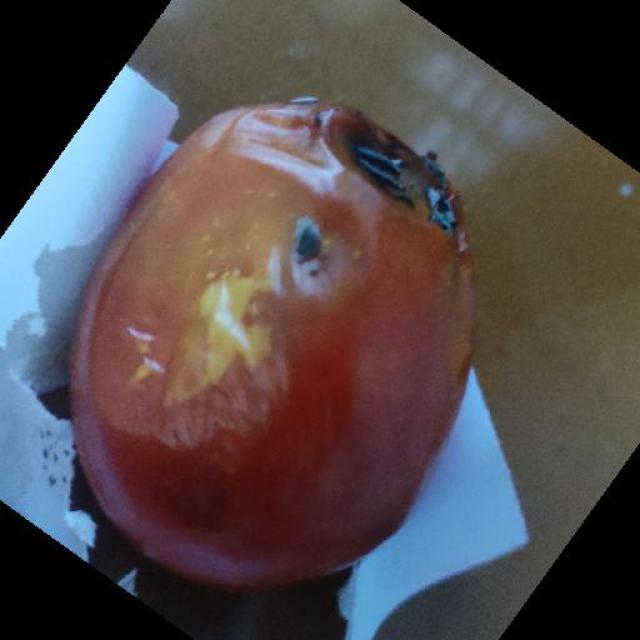Stale_tomato: (100, 86, 481, 582)
